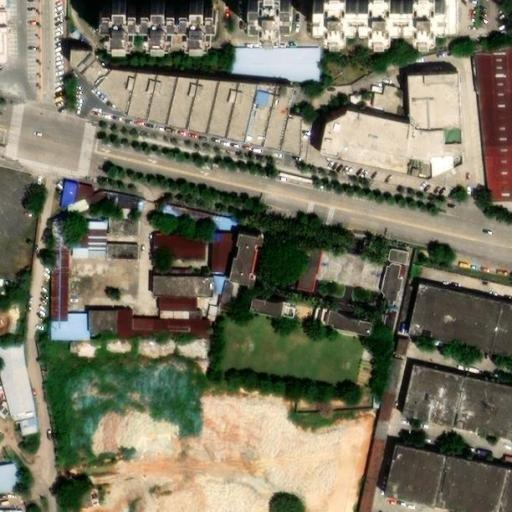building: (410, 284, 512, 361), (322, 0, 458, 48), (100, 0, 219, 43), (387, 449, 461, 512), (405, 367, 474, 434), (488, 51, 512, 205), (462, 379, 512, 444), (336, 113, 423, 150), (449, 463, 512, 512), (46, 222, 74, 328), (332, 131, 418, 165), (273, 244, 324, 300), (330, 149, 418, 180), (233, 237, 276, 297), (252, 85, 286, 158), (272, 89, 305, 158), (234, 85, 266, 154), (105, 76, 153, 122), (360, 439, 390, 512), (217, 84, 247, 150), (198, 84, 230, 145), (176, 81, 209, 140), (156, 79, 187, 135), (328, 314, 383, 345), (136, 320, 212, 341), (137, 78, 167, 131), (68, 191, 115, 223), (157, 279, 218, 302), (476, 63, 488, 175), (73, 226, 109, 262), (291, 120, 321, 163), (258, 0, 302, 29), (153, 236, 200, 263), (380, 264, 407, 309), (163, 205, 222, 225), (376, 395, 400, 442), (211, 235, 236, 278), (71, 47, 103, 79), (89, 61, 121, 93), (437, 104, 468, 137), (253, 302, 293, 326), (90, 313, 122, 340), (386, 359, 408, 398), (122, 68, 150, 94), (415, 104, 437, 137), (58, 181, 82, 210), (50, 327, 91, 343), (11, 410, 37, 434), (467, 81, 476, 149), (417, 150, 453, 166), (109, 220, 142, 237), (415, 82, 439, 105), (108, 247, 142, 263), (157, 300, 198, 313), (91, 299, 123, 315), (152, 269, 194, 281), (417, 165, 442, 185), (0, 296, 15, 329), (418, 137, 456, 150), (388, 250, 413, 269), (121, 315, 137, 343), (161, 311, 198, 323), (152, 260, 189, 272), (0, 457, 14, 488), (398, 339, 416, 363), (383, 311, 399, 336), (439, 90, 467, 104), (0, 496, 24, 512), (69, 312, 91, 329), (452, 149, 476, 163), (311, 309, 327, 329), (109, 194, 139, 204), (219, 218, 237, 234), (441, 166, 456, 185), (121, 203, 135, 221), (439, 82, 467, 90), (80, 188, 93, 205), (455, 163, 466, 181), (322, 312, 332, 331), (205, 308, 217, 323), (198, 244, 208, 262), (95, 338, 117, 345), (217, 277, 225, 296), (291, 311, 302, 324), (258, 79, 277, 85)
